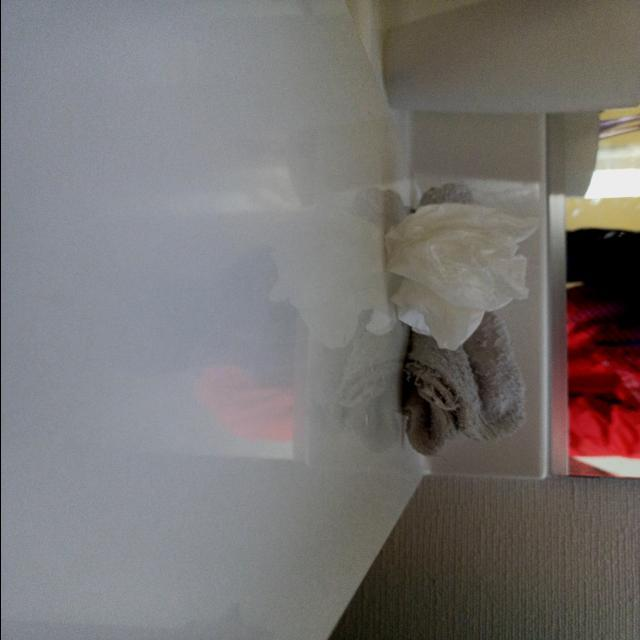Paper: (370, 175, 545, 345)
